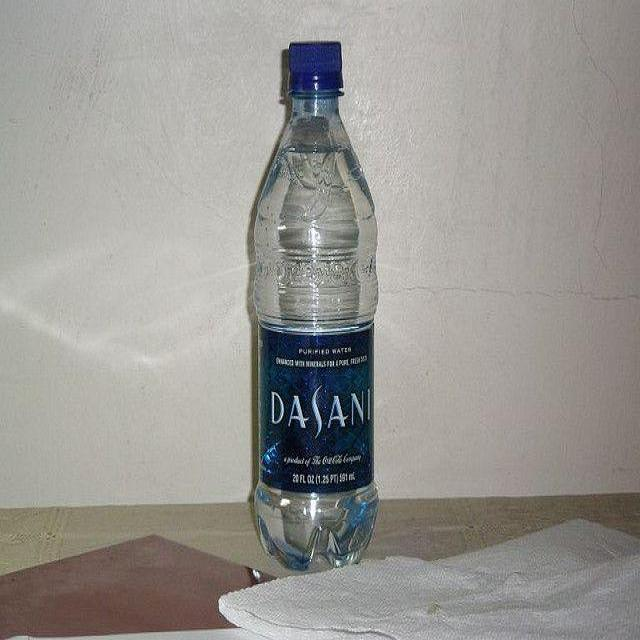bottle: (243, 16, 386, 571)
